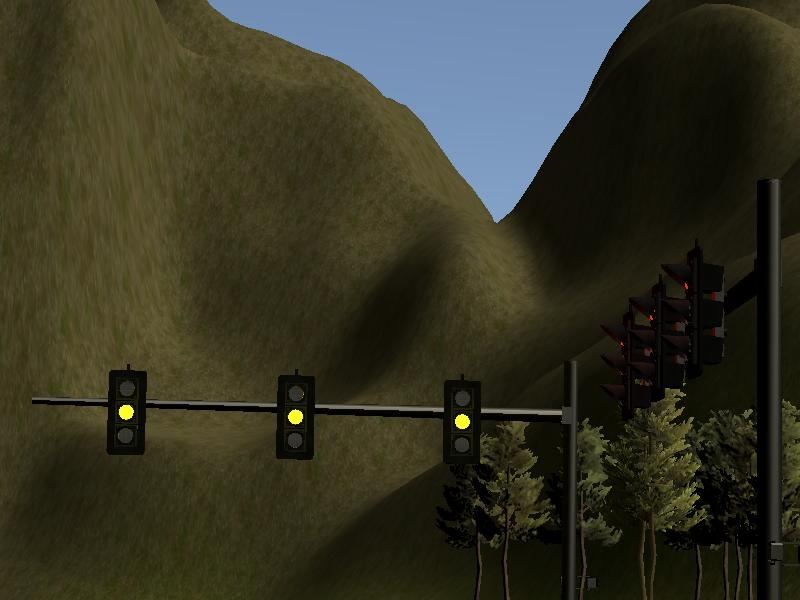yellow: (103, 362, 150, 458), (440, 374, 486, 471), (273, 370, 318, 464)
